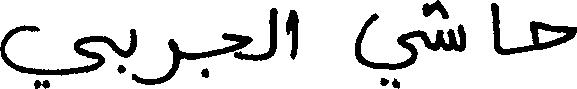X: (0, 20, 108, 88), (356, 8, 419, 88), (138, 34, 179, 88), (531, 16, 576, 55), (437, 0, 464, 56), (224, 28, 251, 64), (271, 0, 276, 88), (492, 0, 499, 58), (291, 5, 296, 64), (132, 24, 136, 86)
